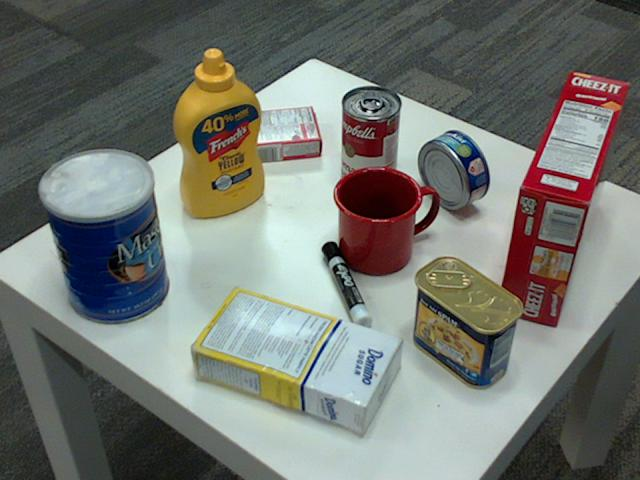cracker_box: (495, 70, 627, 324)
gelatin_box: (244, 103, 323, 160)
large_marker: (321, 243, 371, 333)
master_chef_can: (36, 149, 166, 325)
mug: (331, 164, 434, 272)
mustard_bottle: (172, 49, 264, 216)
potted_meat_can: (409, 255, 523, 388)
sugar_box: (185, 284, 399, 431)
tomato_soup_can: (340, 86, 400, 190)
tuna_fish_can: (417, 129, 487, 209)
